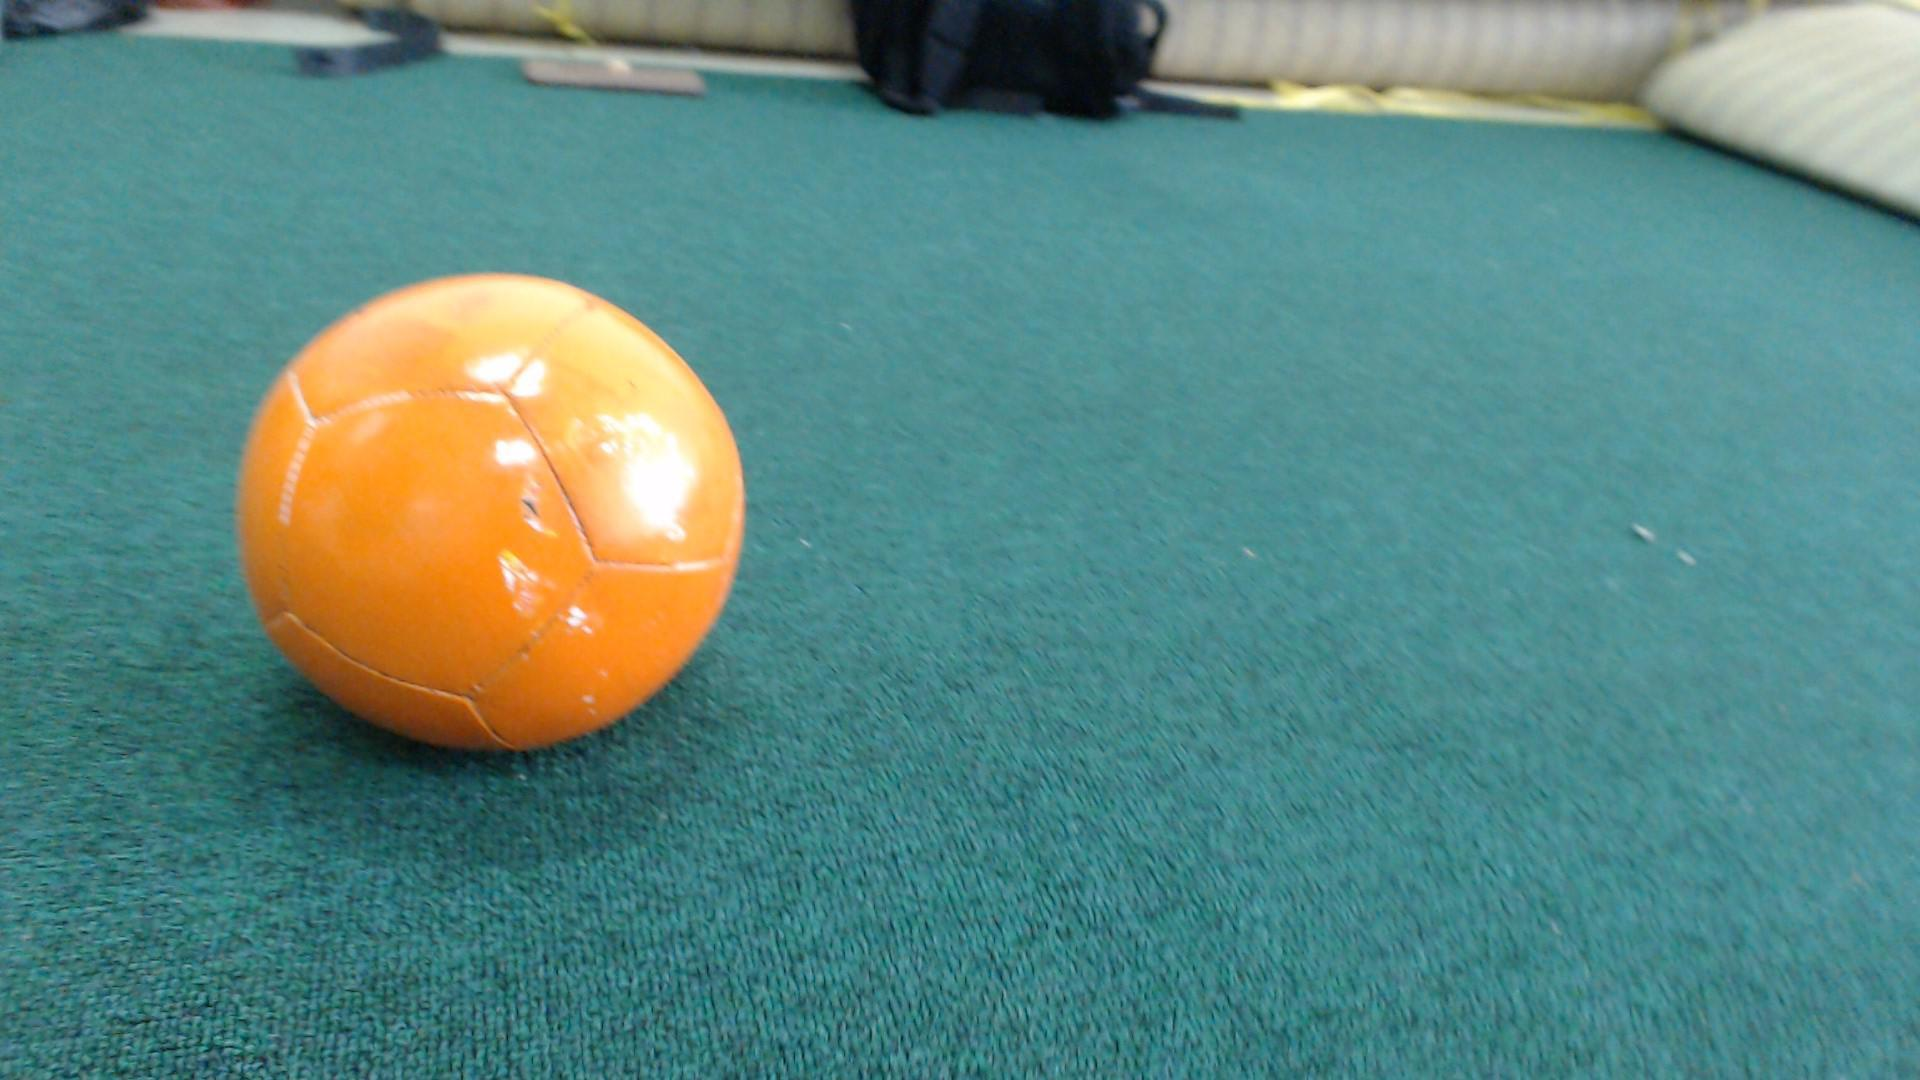bola: (204, 229, 771, 796)
